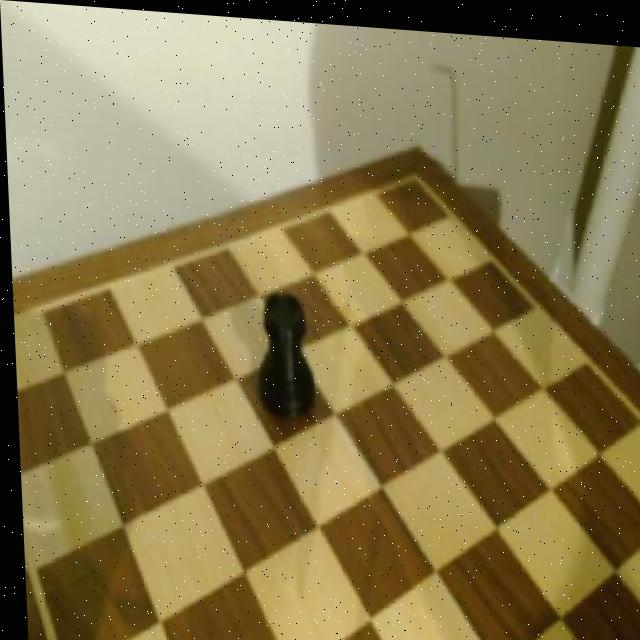black-queen: (243, 281, 317, 425)
